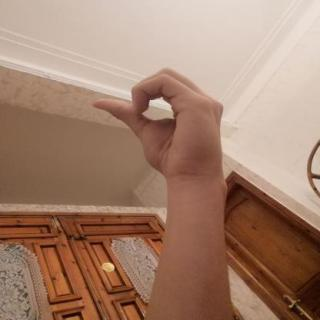WAW: (80, 59, 240, 189)
